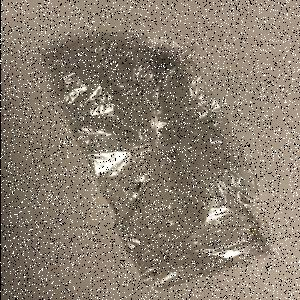Trash: (48, 32, 276, 296)
